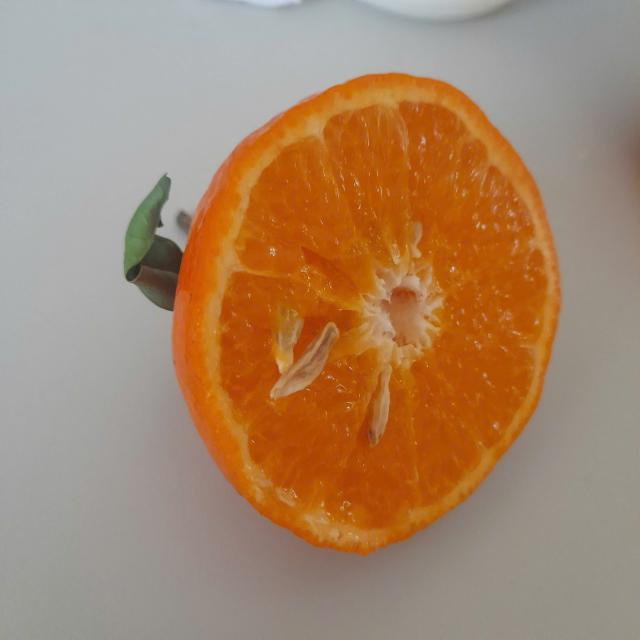Cam: (105, 58, 576, 564)
